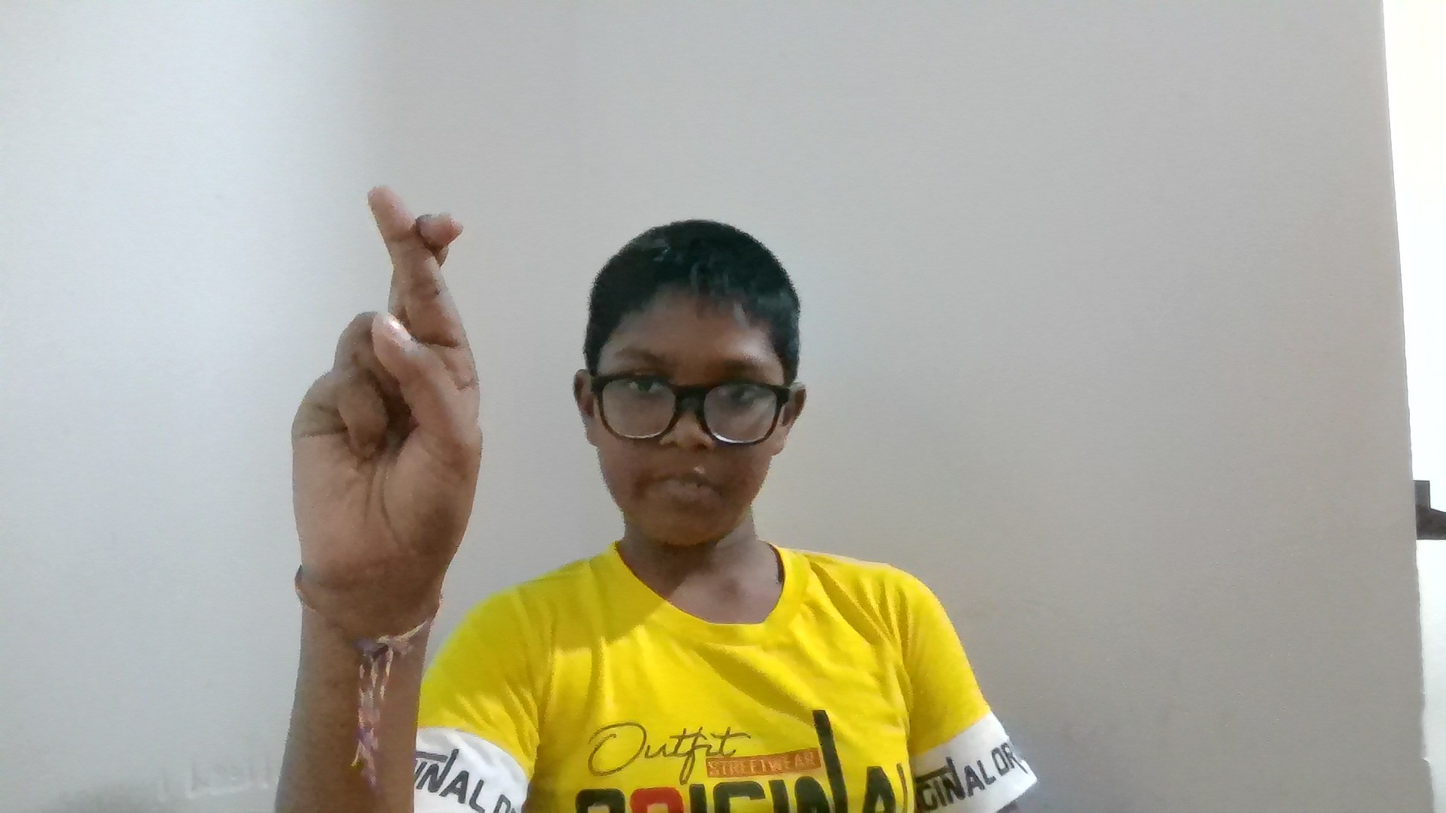Good_Luck: (277, 126, 567, 696)
